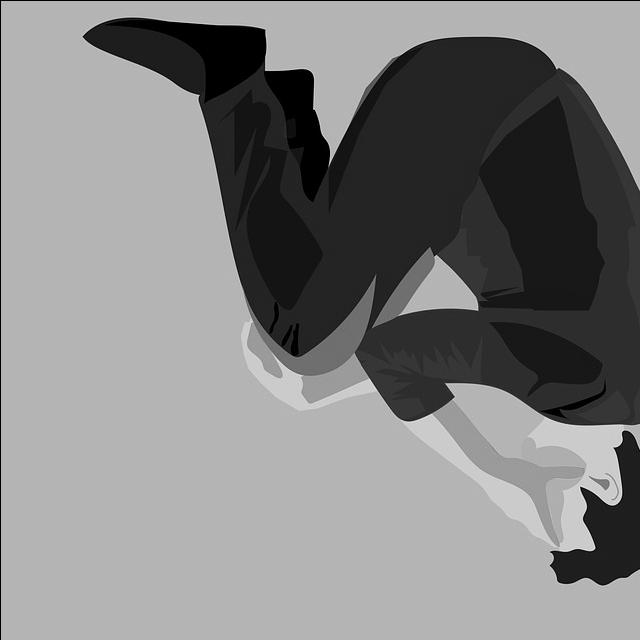Non_Gorille: (109, 0, 640, 589)
